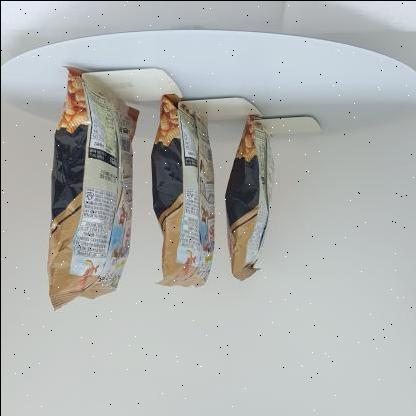Others: (37, 55, 298, 318)
